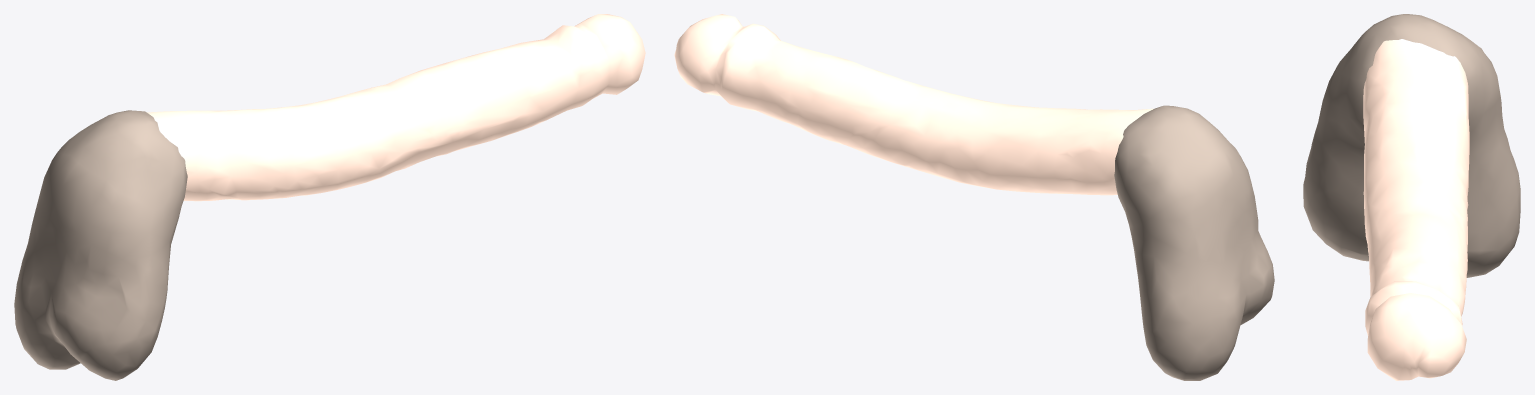
The model's file is DickLow.fbx.
3 renders of one model, left to right at view 1: azimuth 30°, elevation 25°; view 2: azimuth 150°, elevation 25°; view 3: azimuth 270°, elevation 25°, orthographic. The views are drawn at different scales.
Parts seen in each view (by area): view 1: pCylinder1-reduced1; view 2: pCylinder1-reduced1; view 3: pCylinder1-reduced1.
Boxes of the visible parts, x1,y1,x2,y2 form: pCylinder1-reduced1: (14,14,645,380); pCylinder1-reduced1: (674,14,1274,380); pCylinder1-reduced1: (1303,14,1520,380).
Size of the model in its own units: 12.36 by 4.94 by 3.47.
